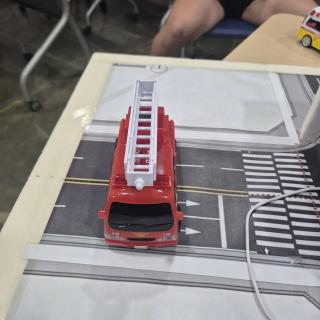Fire_truck: (98, 78, 183, 248)
